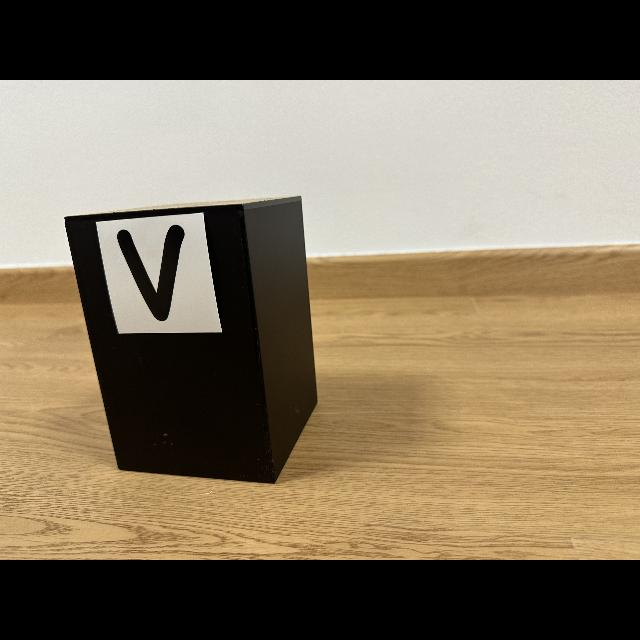V: (118, 225, 185, 321)
